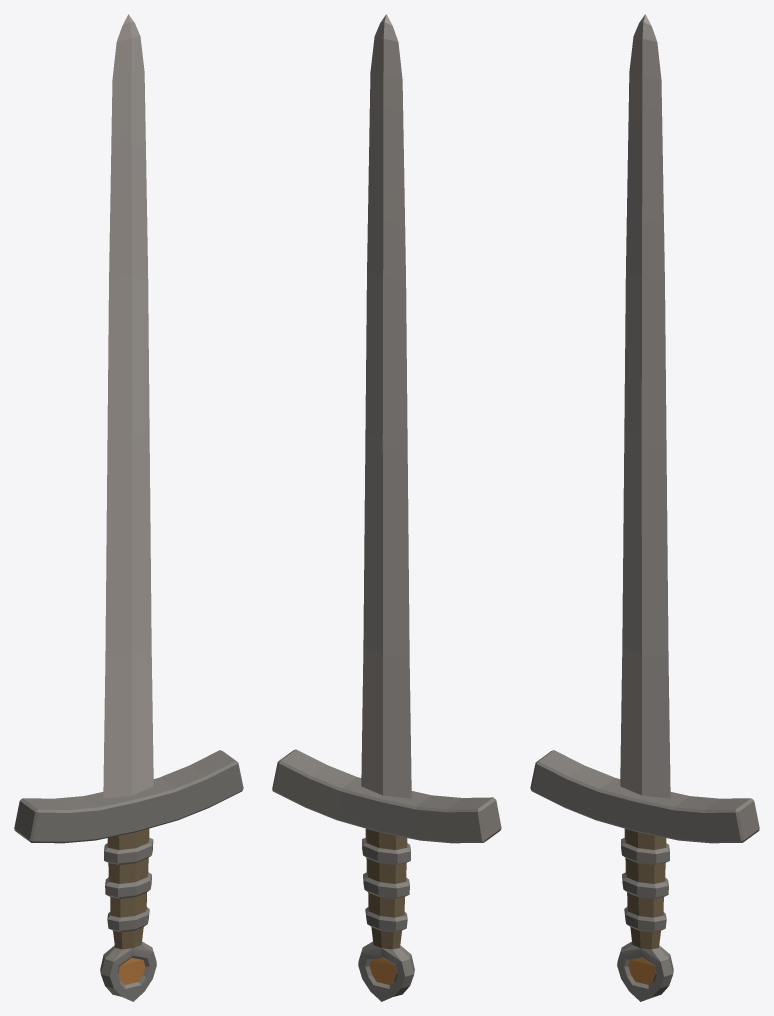
The model's file is SM_pwe_medieval_sword_01.fbx.
3 views of the same model, side by side, from view 1: azimuth 30°, elevation 25°; view 2: azimuth 150°, elevation 25°; view 3: azimuth 330°, elevation 25° (orthographic).
Parts seen in each view (by area): view 1: SM_pwe_medieval_sword_01; view 2: SM_pwe_medieval_sword_01; view 3: SM_pwe_medieval_sword_01.
Boxes of the visible parts, x1,y1,x2,y2 form: SM_pwe_medieval_sword_01: (14, 14, 243, 1001); SM_pwe_medieval_sword_01: (272, 14, 501, 1001); SM_pwe_medieval_sword_01: (530, 14, 759, 1001).
Bounding box in the file's own units: 24.94 × 110 × 3.76.
